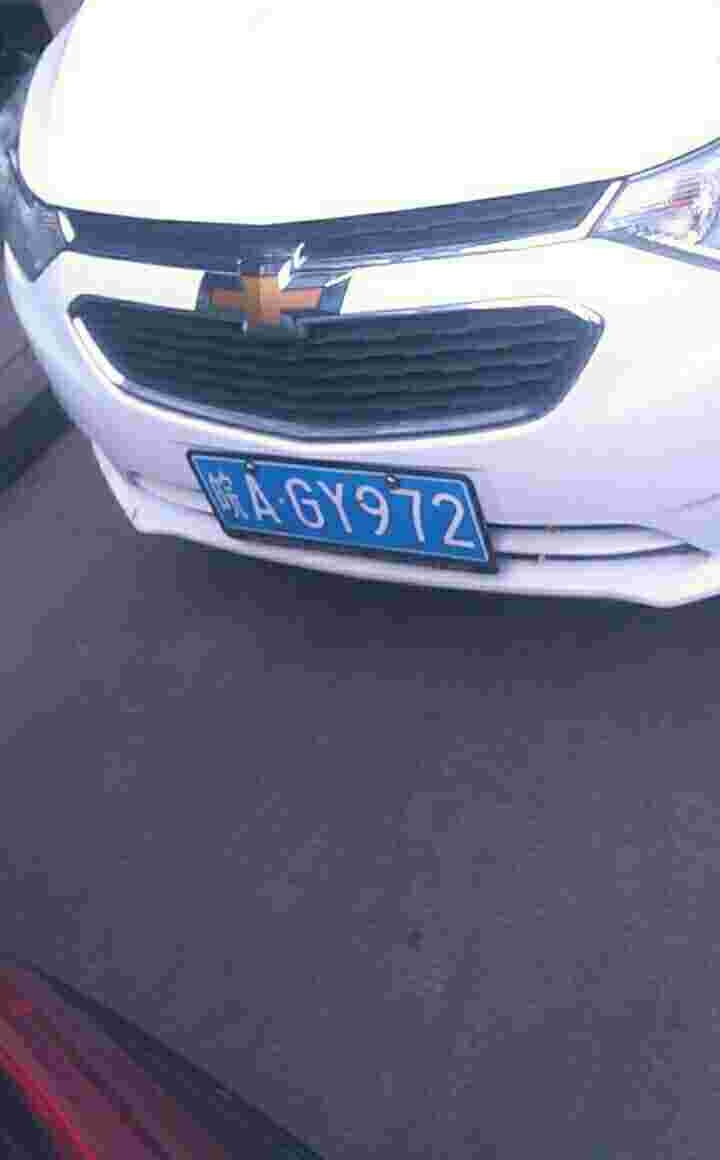license_plate: (191, 460, 481, 569)
